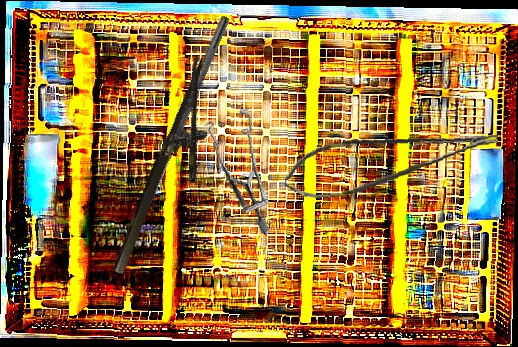Micro Scissor: (281, 126, 503, 204)
Needle Holder: (109, 55, 239, 287)
Speculum: (182, 98, 297, 236)
Surgical Spoon: (134, 14, 230, 224)
